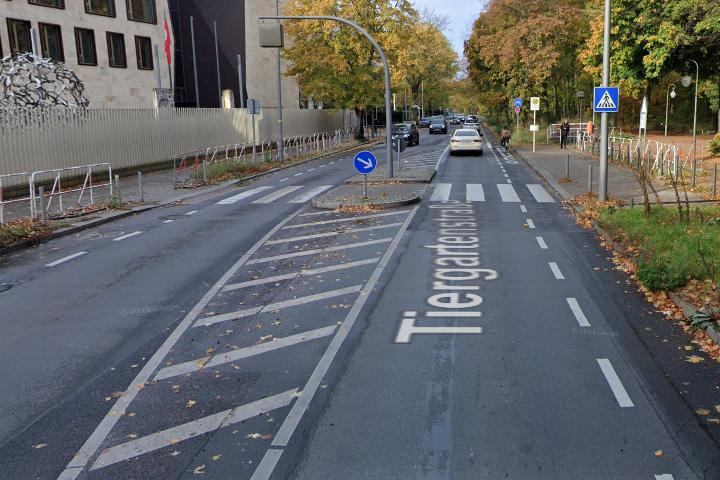traffic_sign: (592, 86, 620, 113), (354, 151, 377, 174)
vehicle: (448, 127, 485, 156), (384, 121, 421, 148), (428, 119, 448, 135), (448, 116, 462, 125)
